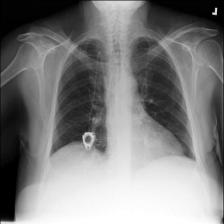normal: (46, 32, 200, 170)
